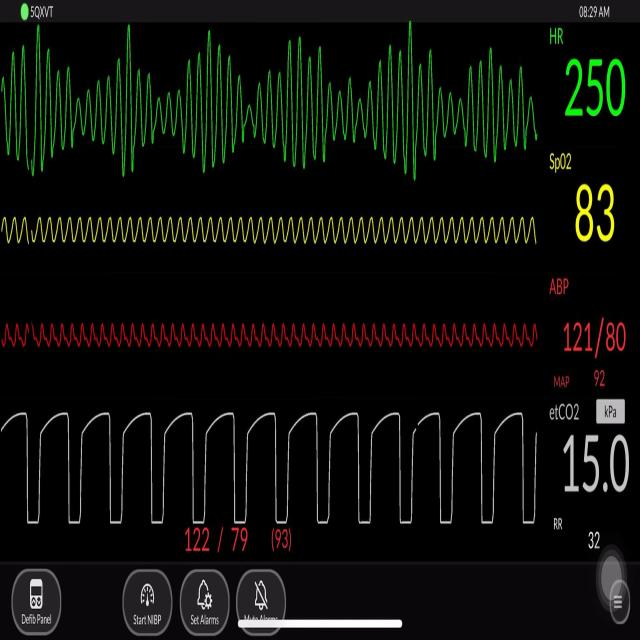danger: (3, 36, 545, 195)
